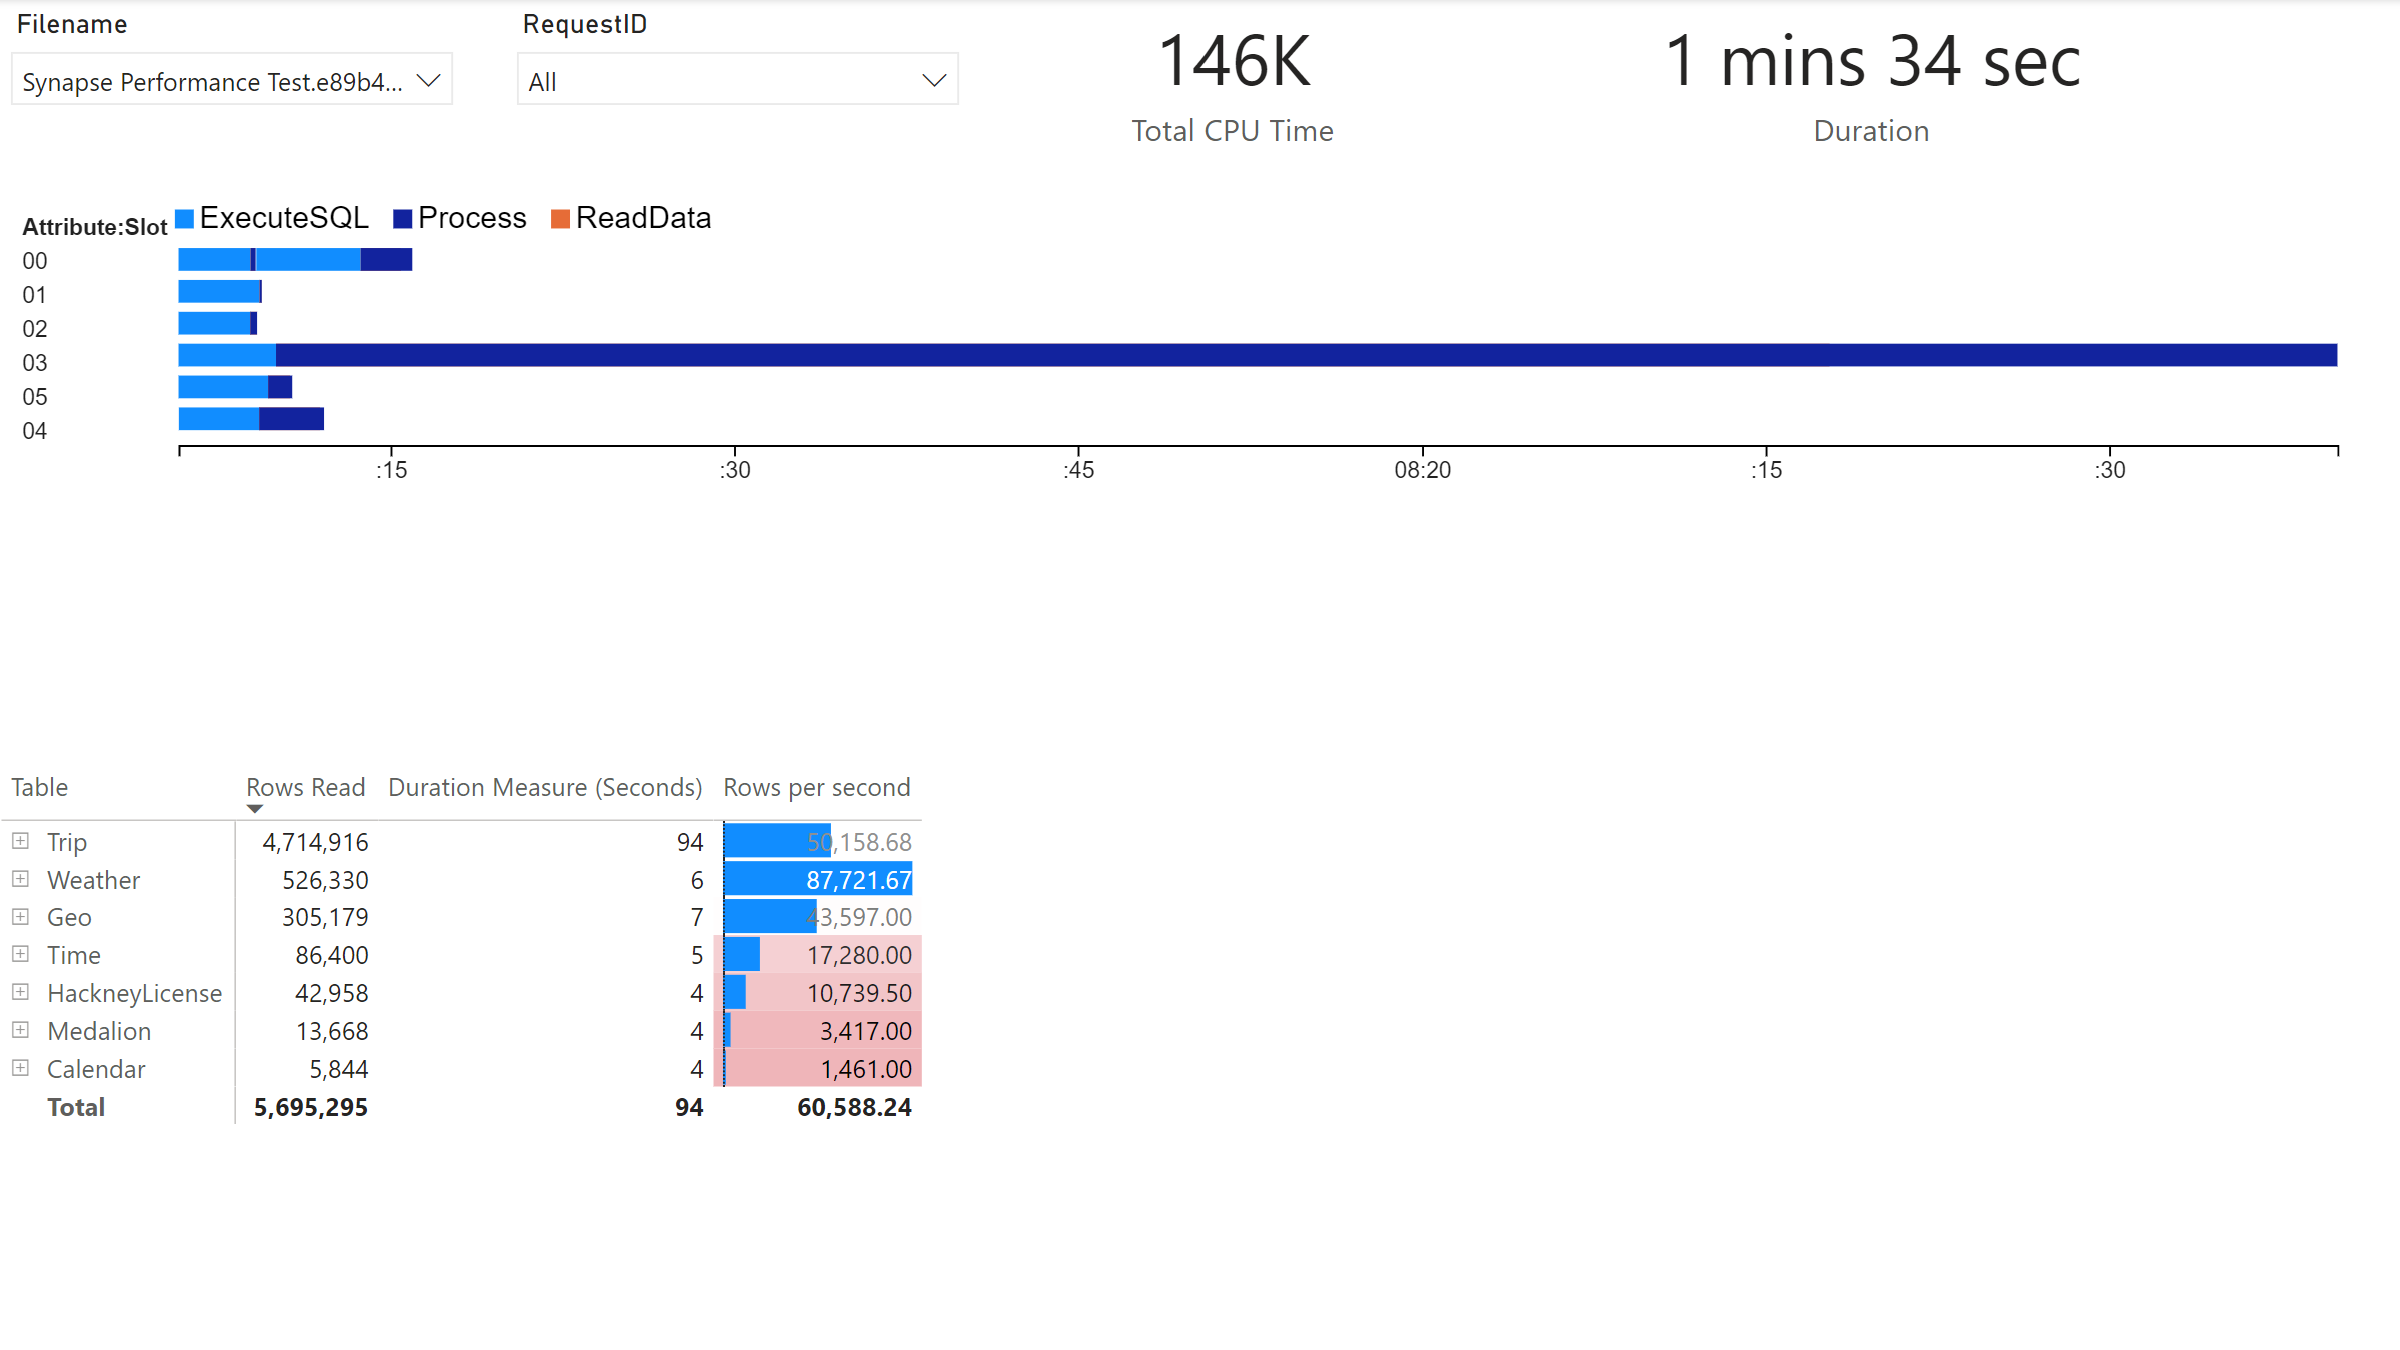

The dashboard page shown, as its layout file describes it:
{"tool":"powerbi","page":{"name":"Slots / Concurrency","canvas":[1280,720],"ordinal":1},"visuals":[{"type":"cdTimelinesA399BDD5831D40CD8E83DCCD13A986BE","fields":{"start":["Progress Report End.StartTime"],"entities":["Progress Report End.Attribute:Slot"],"end":["Progress Report End.End Time"],"tooltips":["Progress Report End.Table","Progress Report End.Duration Text","Progress Report End.ObjectName","Event Subclasses.Sub Class"],"category":["Event Subclasses.Sub Class"]},"box":[0,95.5,1280,295.1],"z":0},{"type":"card","fields":{"Values":["Progress Report End.Duration Measure"]},"box":[790.5,0,401.8,84.4],"z":1000},{"type":"pivotTable","fields":{"Rows":["Progress Report End.Table","Progress Report End.ObjectName"],"Values":["Progress Report End.Rows Read","Progress Report End.Duration Measure (Seconds)","Progress Report End.Rows per second"]},"box":[0,400.5,1280,319.3],"z":2000},{"type":"card","fields":{"Values":["Sum(Progress Report End.CPUTime)"]},"box":[558.2,0,192.4,84.4],"z":3000},{"type":"slicer","title":"Select a Request ID","fields":{"Values":["Progress Report End.Filename"]},"box":[0,0,253.3,84.4],"z":4000},{"type":"slicer","title":"Select a Request ID","fields":{"Values":["Progress Report End.RequestID"]},"box":[267,0,253.3,84.4],"z":5000}]}

Visuals, with their boxes in screenshot pixels (x1, y1, x2, y2), scaled from the page's 1280x720 canvas onto the 2400x1350 screenshot:
cdTimelinesA399BDD5831D40CD8E83DCCD13A986BE - Progress Report End.StartTime x Progress Report End.Attribute:Slot: region(0, 179, 2399, 732)
card - Progress Report End.Duration Measure: region(1482, 0, 2236, 158)
pivotTable - Progress Report End.Table x Progress Report End.ObjectName: region(0, 751, 2399, 1349)
card - Sum(Progress Report End.CPUTime): region(1047, 0, 1407, 158)
"Select a Request ID" slicer: region(0, 0, 475, 158)
"Select a Request ID" slicer: region(501, 0, 976, 158)
